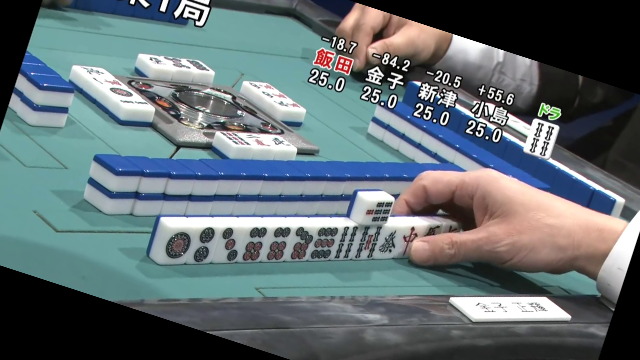Tehai: (142, 203, 478, 267)
